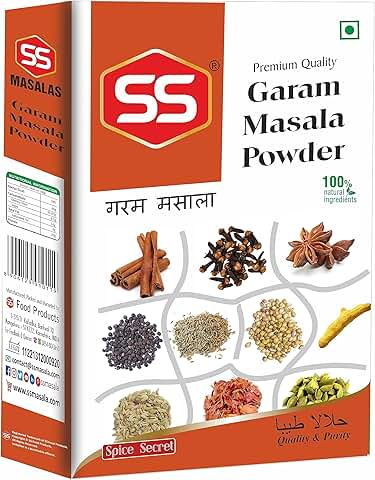Garamasala: (2, 5, 375, 480)
